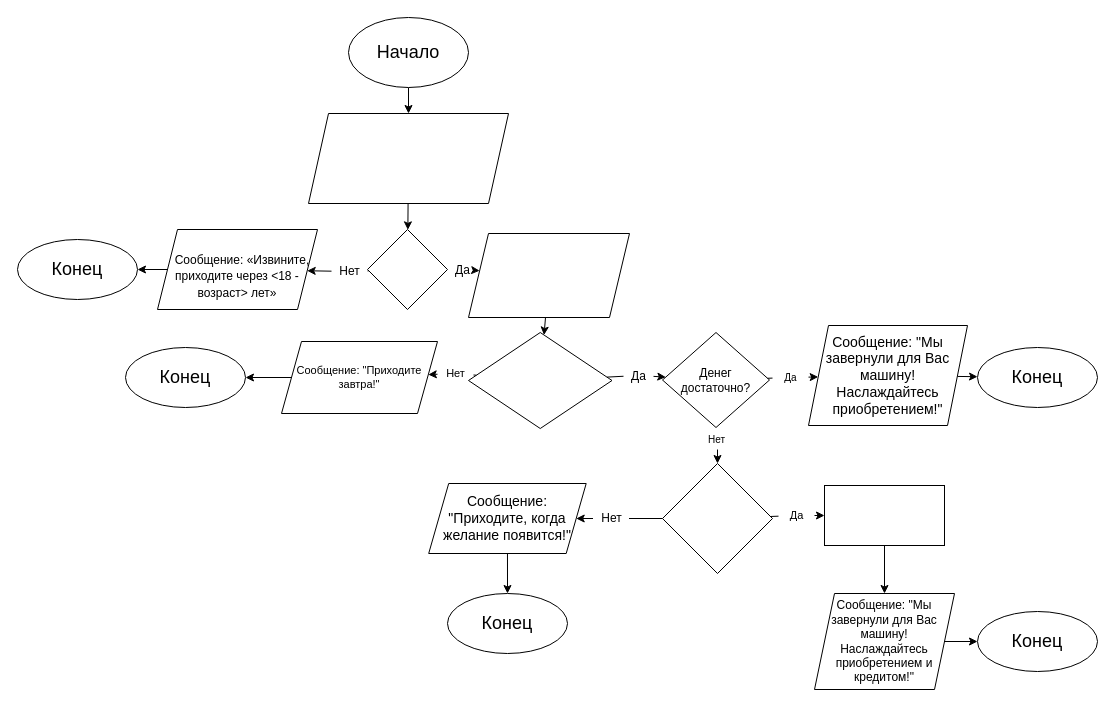
The diagram is 1115 pixels wide and 707 high, and some of its shapes have lost their labels. Here are the shapes that lost their labels. From the top down, the centre of each, then its label:
At point (408, 158): "Получение данных о клиенте: 1. Возраст 2. Сумма 3. Желание брать кредит".
At point (407, 269): "Есть 18?".
At point (549, 275): "Получение информации о машине".
At point (540, 380): "Есть ли хотя бы 1 такая машина".
At point (717, 518): "Желание брать кредит".
At point (884, 515): "Рассчет кредита на 36 месяцев: <(сумма - цена)/36>".
